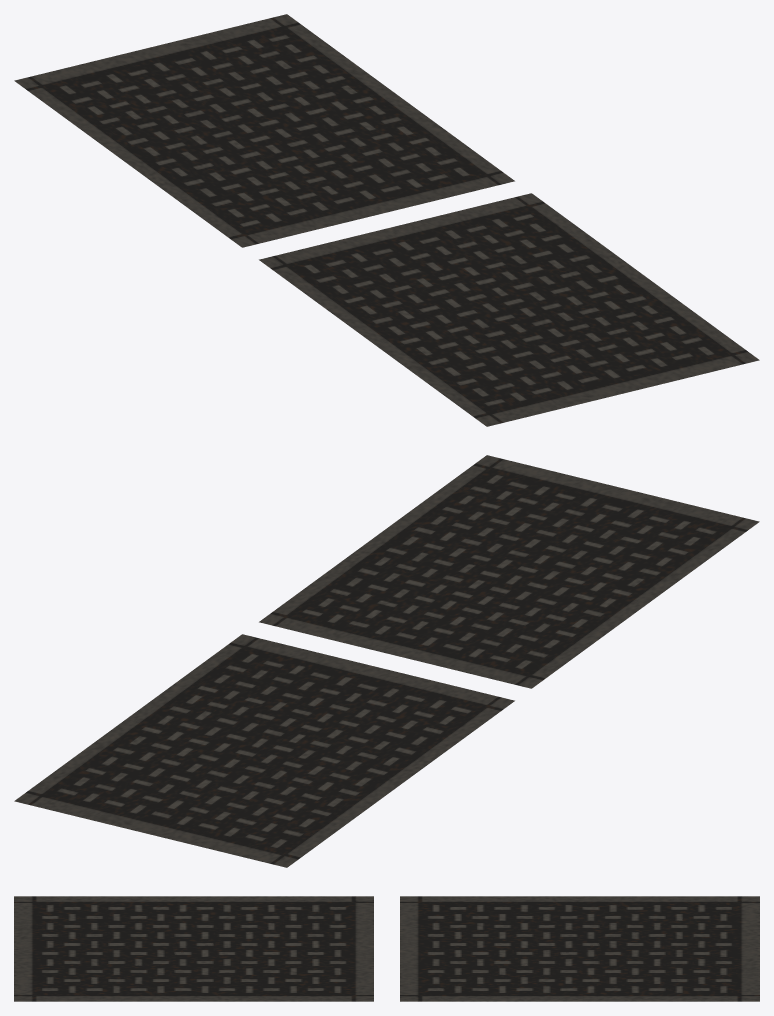
Rendered from SM_Morin_Tombino_LOD1.fbx.
3 views of the same model, one above another, from view 1: azimuth 30°, elevation 25°; view 2: azimuth 150°, elevation 25°; view 3: azimuth 270°, elevation 25° (orthographic). The views are drawn at different scales.
Parts seen in each view (by area): view 1: SM_Morin_Tombino_LOD1; view 2: SM_Morin_Tombino_LOD1; view 3: SM_Morin_Tombino_LOD1.
Part boxes in pixels (x1,y1,x2,y2): SM_Morin_Tombino_LOD1: [14, 14, 759, 426]; SM_Morin_Tombino_LOD1: [14, 455, 759, 867]; SM_Morin_Tombino_LOD1: [14, 896, 759, 1001].
Bounding box in the file's own units: 58 × 174 × 0.
Materials: 1 (1 with a texture image).
